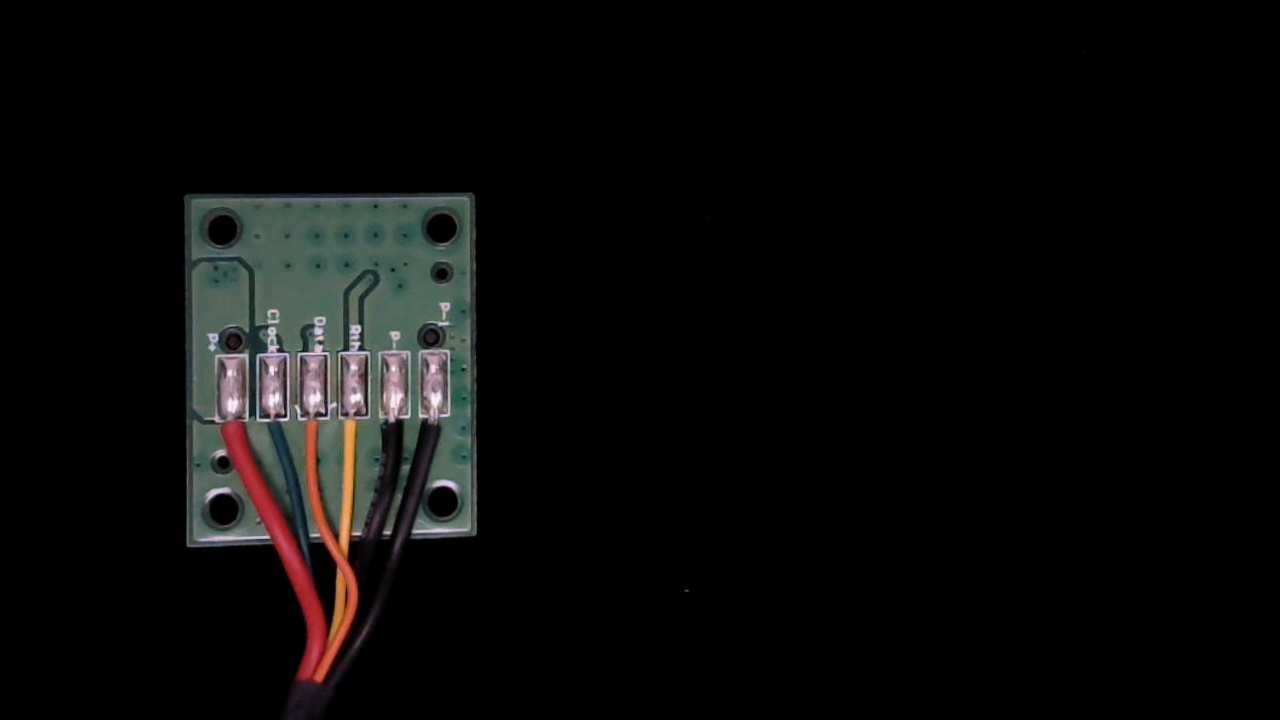Black: (379, 405, 410, 465)
Black1: (419, 402, 450, 464)
Green: (255, 405, 289, 464)
Orange: (299, 405, 327, 467)
Red: (214, 406, 248, 470)
Yellow: (337, 405, 370, 470)
